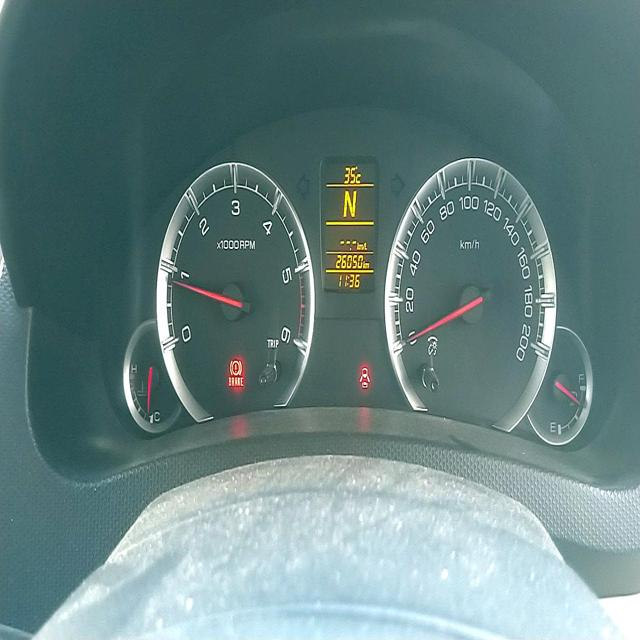odometer: (334, 251, 365, 271)
